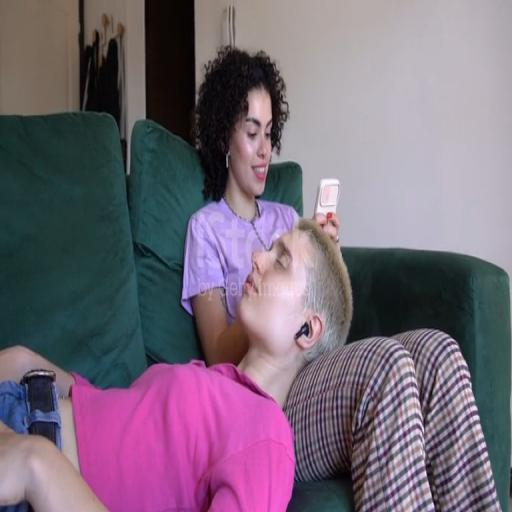earphone: (295, 321, 308, 345)
